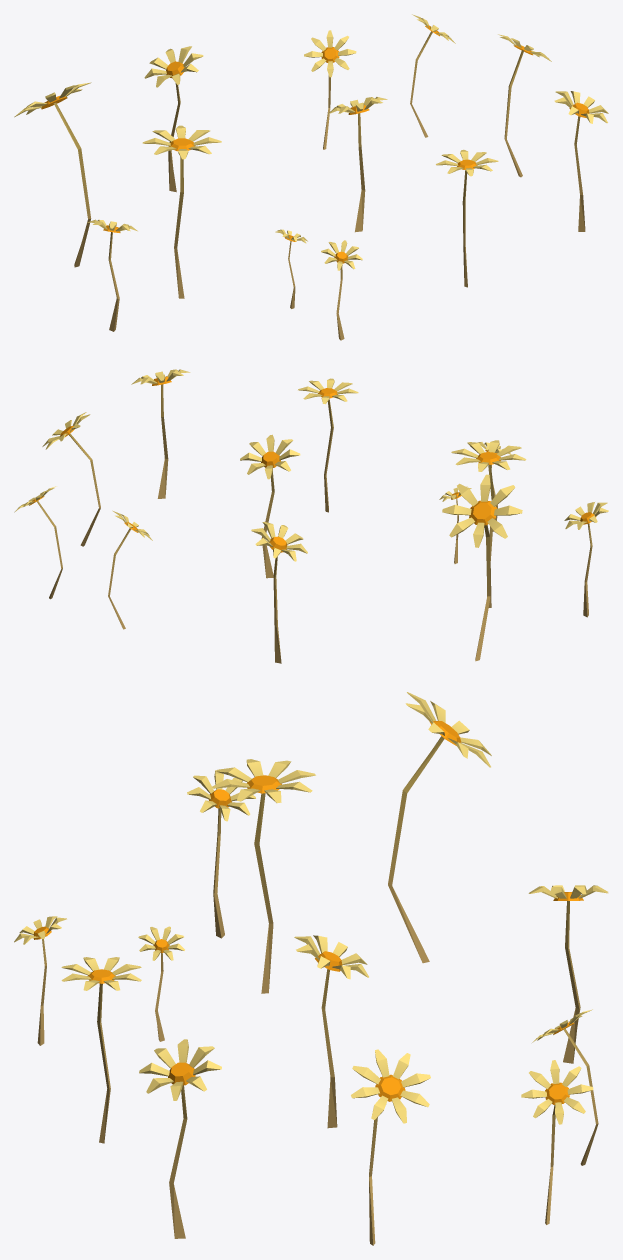
Rendered from flower_daisy_yellow.glb.
3 renders of one model, top to bottom at view 1: azimuth 30°, elevation 25°; view 2: azimuth 150°, elevation 25°; view 3: azimuth 270°, elevation 25°, orthographic. The views are drawn at different scales.
Visible parts, largest first — view 1: Flower 4_4_A; view 2: Flower 4_4_A; view 3: Flower 4_4_A.
Part boxes in pixels (<box>): Flower 4_4_A: <box>14,14,608,340</box>; Flower 4_4_A: <box>14,369,608,663</box>; Flower 4_4_A: <box>14,692,608,1245</box>.
Size of the model in its own units: 0.608 by 0.2108 by 0.4459.
Materials: 1 (1 with a texture image).
